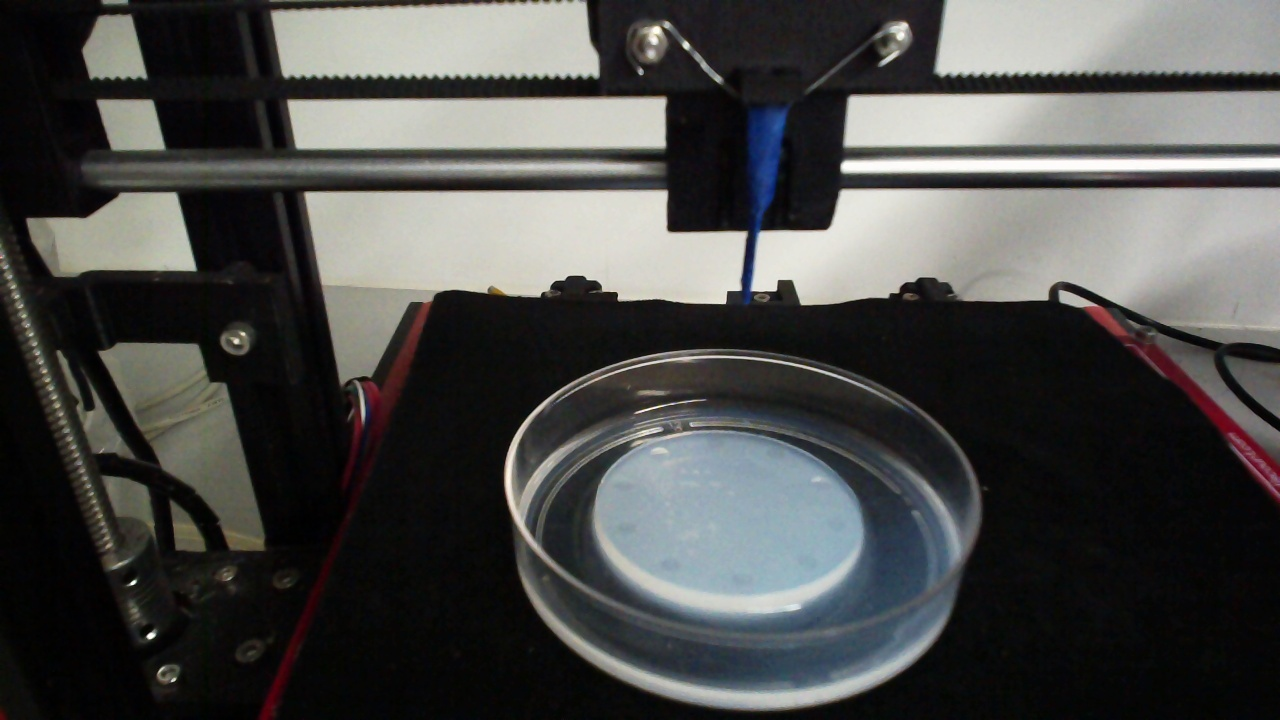groove: (808, 473, 834, 493), (728, 570, 755, 589), (824, 513, 848, 533), (795, 553, 818, 573), (657, 554, 681, 573), (762, 444, 787, 462), (615, 517, 637, 536), (609, 477, 635, 492), (648, 446, 671, 462), (703, 436, 726, 452)
needle: (739, 108, 784, 305)
